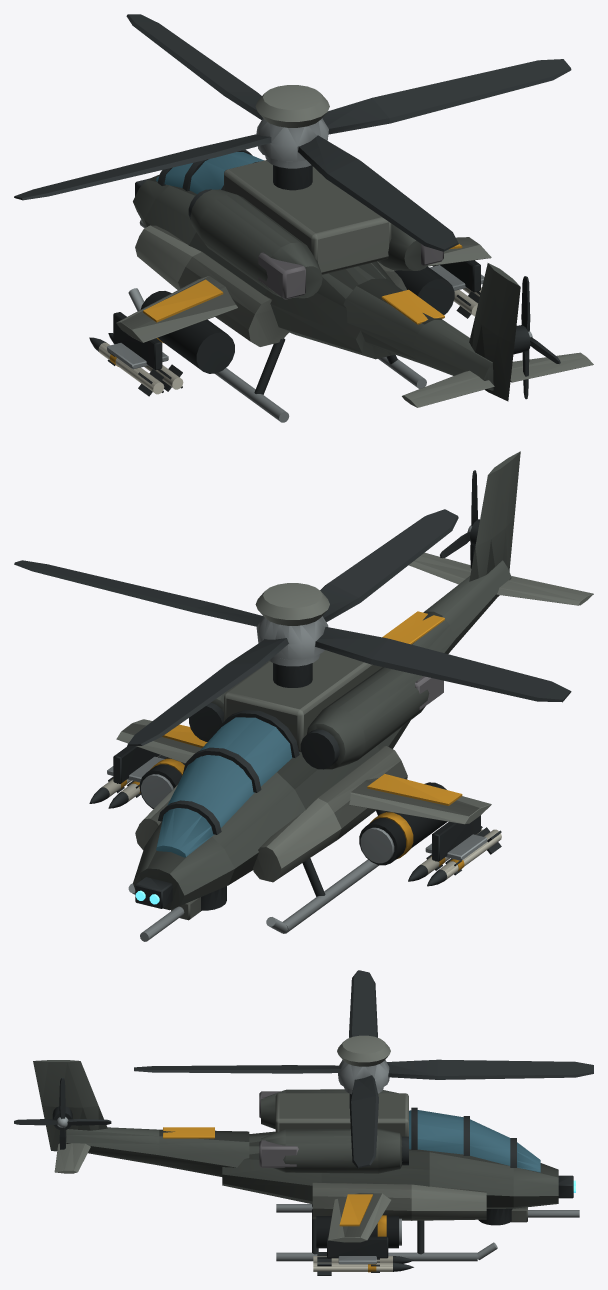
Rendered from Helicopter.glb.
3 renders of one model, top to bottom at view 1: azimuth 30°, elevation 25°; view 2: azimuth 150°, elevation 25°; view 3: azimuth 270°, elevation 25°, orthographic. The views are drawn at different scales.
Parts seen in each view (by area): view 1: export_bastion_Helicopter_Pod, export_bastion_Helicopter_Fan_RotorM_Spinner, export_bastion_Helicopter_Fan_RotorT_Spinner; view 2: export_bastion_Helicopter_Pod, export_bastion_Helicopter_Fan_RotorM_Spinner, export_bastion_Helicopter_Fan_RotorT_Spinner; view 3: export_bastion_Helicopter_Pod, export_bastion_Helicopter_Fan_RotorM_Spinner, export_bastion_Helicopter_Fan_RotorT_Spinner.
Part boxes in pixels (x1,y1,x2,y2): export_bastion_Helicopter_Pod: (89,85,593,422); export_bastion_Helicopter_Fan_RotorM_Spinner: (14,14,571,251); export_bastion_Helicopter_Fan_RotorT_Spinner: (521,276,560,399); export_bastion_Helicopter_Pod: (89,451,593,941); export_bastion_Helicopter_Fan_RotorM_Spinner: (14,509,571,746); export_bastion_Helicopter_Fan_RotorT_Spinner: (440,470,477,568); export_bastion_Helicopter_Pod: (33,1035,579,1275); export_bastion_Helicopter_Fan_RotorM_Spinner: (134,970,593,1168); export_bastion_Helicopter_Fan_RotorT_Spinner: (14,1078,111,1149).
Size of the model in its own units: 5.1 by 2.38 by 6.43.
